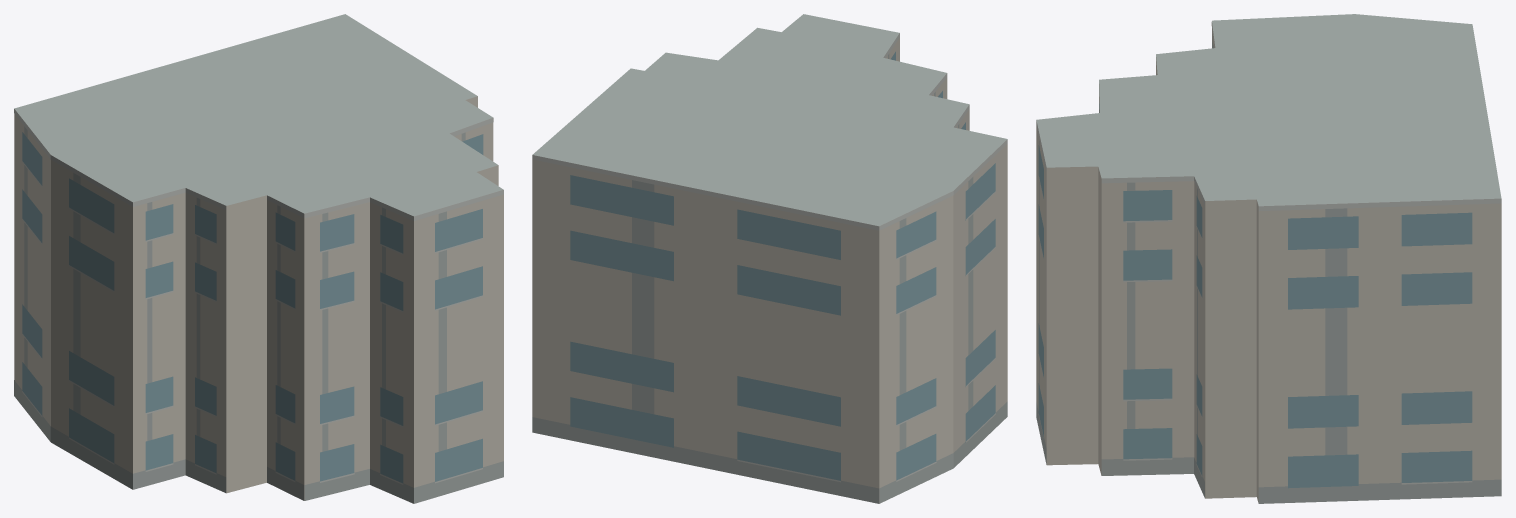
File: survey-upis-32917096.glb
3 renders of one model, left to right at view 1: azimuth 30°, elevation 25°; view 2: azimuth 150°, elevation 25°; view 3: azimuth 270°, elevation 25°, orthographic. The views are drawn at different scales.
Visible parts, largest first — view 1: survey-upis-32917096.tmp; view 2: survey-upis-32917096.tmp; view 3: survey-upis-32917096.tmp.
Boxes of the visible parts, box(x1,y1,x2,y2) form: survey-upis-32917096.tmp: box(14, 14, 503, 503); survey-upis-32917096.tmp: box(532, 14, 1007, 503); survey-upis-32917096.tmp: box(1036, 14, 1501, 503).
Size of the model in its own units: 20.57 by 14.84 by 21.03.
